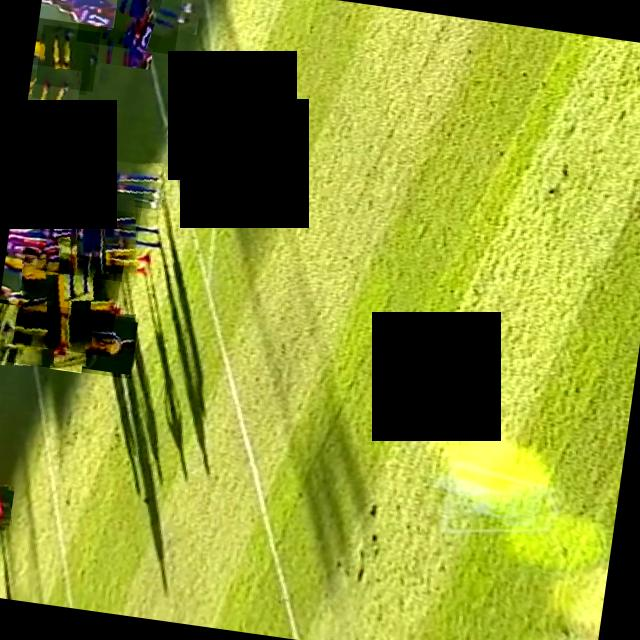goalkeeper: (0, 480, 15, 529)
soccer-player: (13, 246, 124, 357), (35, 172, 145, 282), (0, 298, 139, 378), (16, 147, 168, 216), (76, 0, 185, 54), (35, 24, 101, 91), (26, 64, 82, 119), (39, 0, 120, 27), (22, 96, 66, 144)
